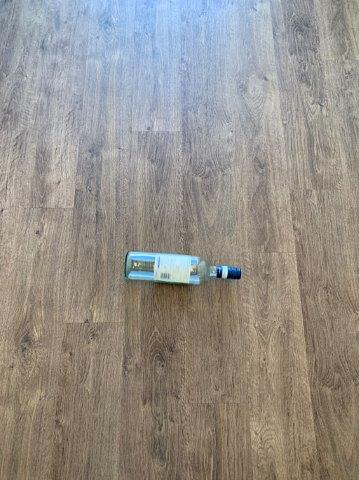botolkaca: (123, 249, 242, 284)
